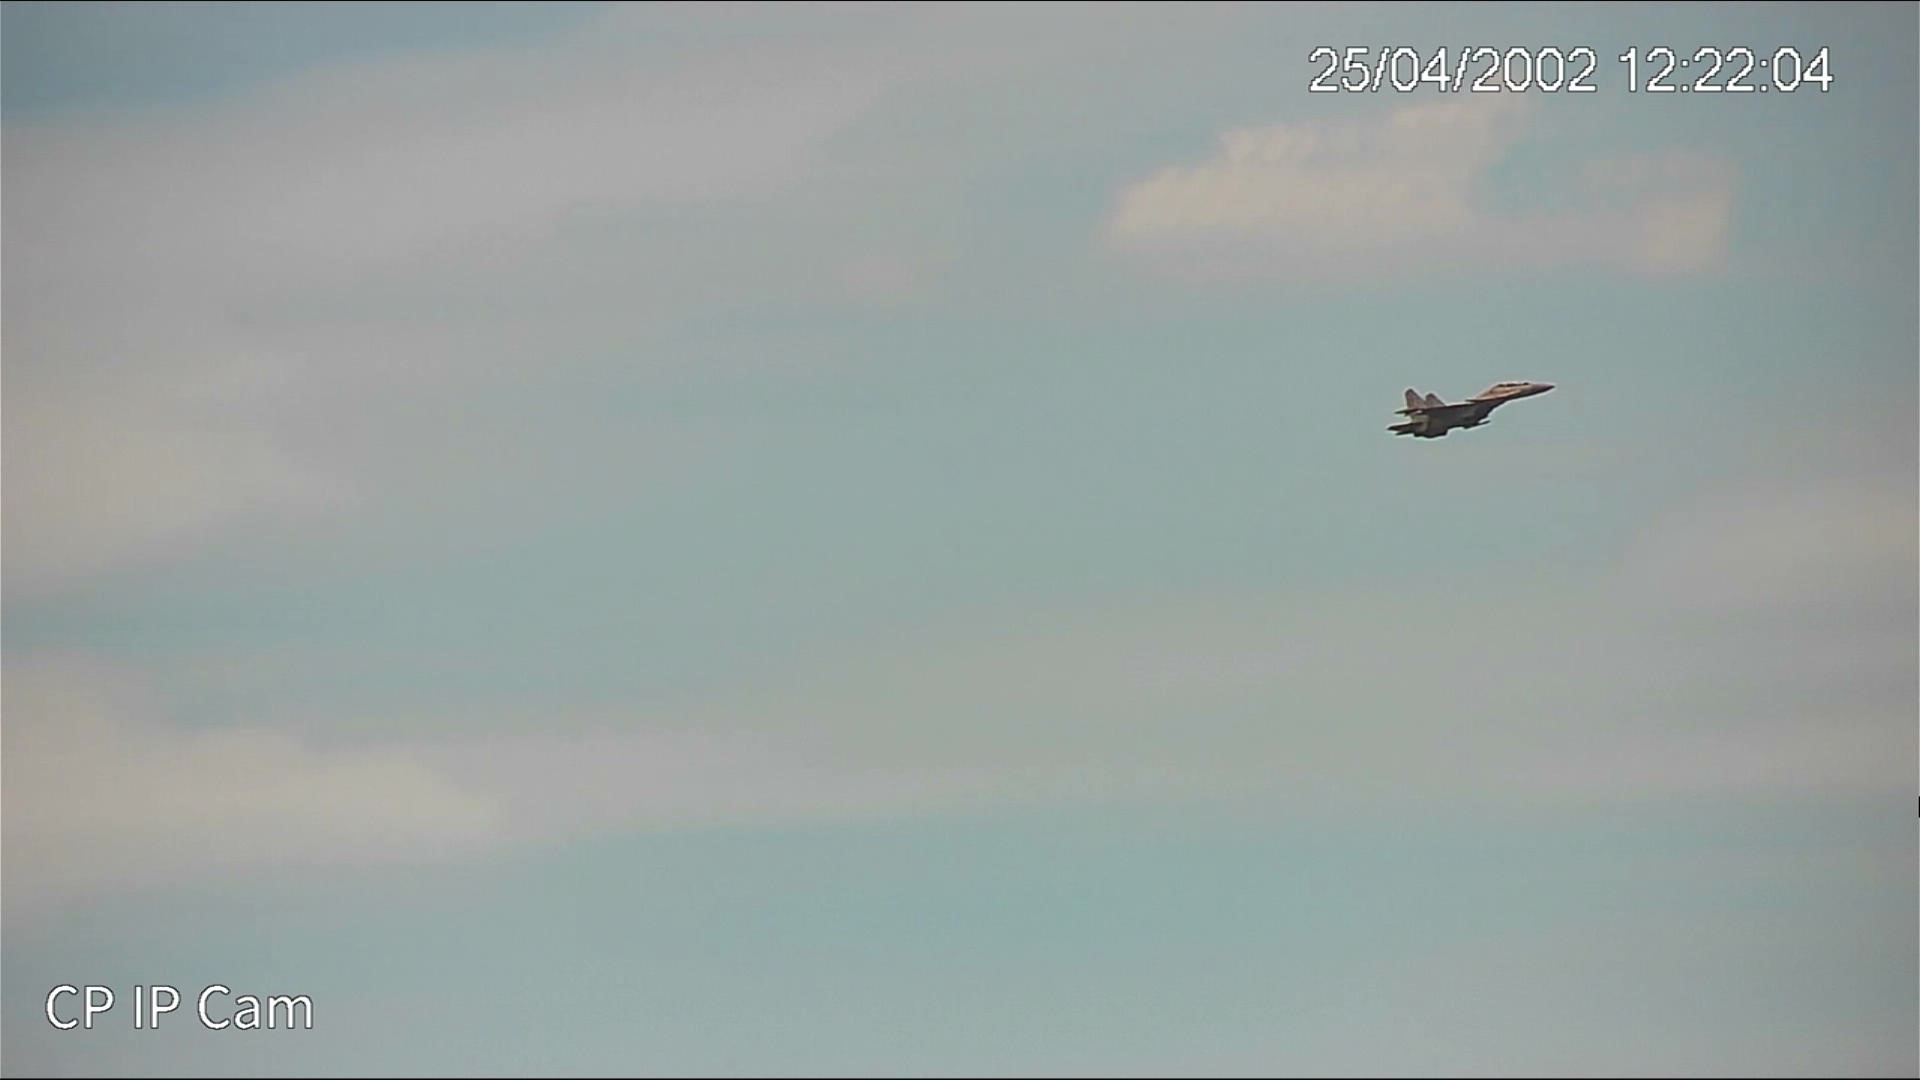SU_30: (1387, 373, 1567, 444)
